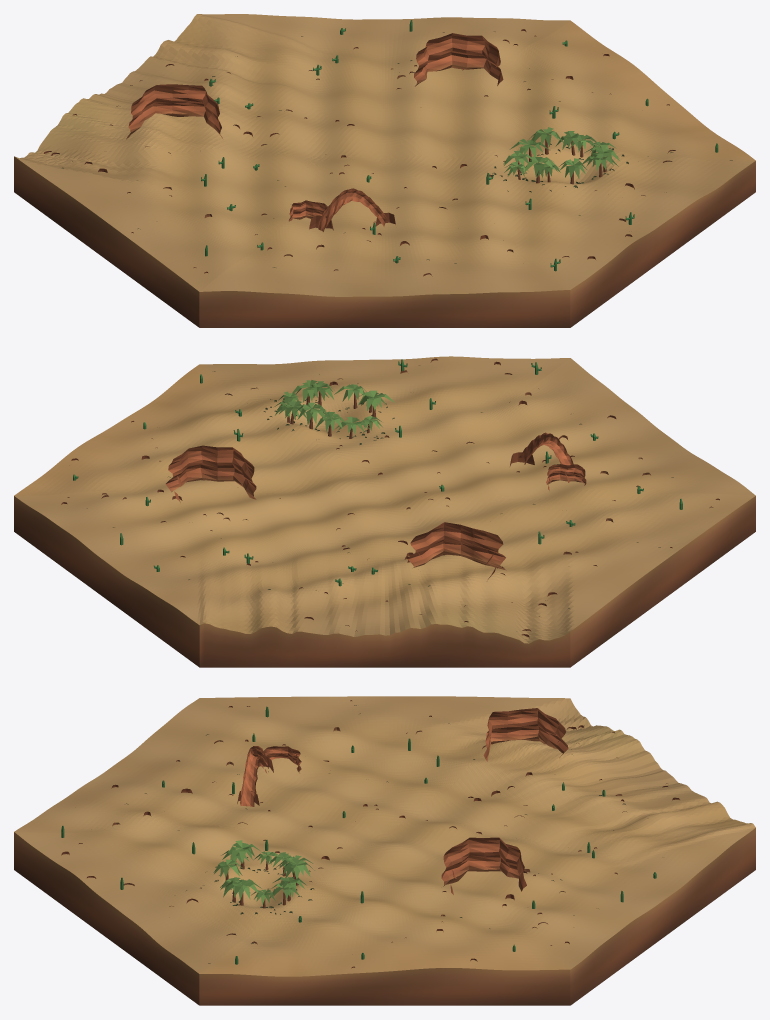
3 renders of one model, top to bottom at view 1: azimuth 30°, elevation 25°; view 2: azimuth 150°, elevation 25°; view 3: azimuth 270°, elevation 25°, orthographic.
Visible parts, largest first — view 1: terrain, hex_side_cut, sandstone_cliffs, palm_fronds, rock_arches, loose_rocks, cacti; view 2: terrain, hex_side_cut, sandstone_cliffs, palm_fronds, loose_rocks, cacti, rock_arches; view 3: terrain, hex_side_cut, sandstone_cliffs, palm_fronds, loose_rocks, rock_arches, cacti.
Part boxes in pixels (x1=…): terrain: x1=15, y1=14, x2=755, y2=296; hex_side_cut: x1=14, y1=156, x2=755, y2=327; sandstone_cliffs: x1=126, y1=33, x2=503, y2=227; palm_fronds: x1=503, y1=127, x2=620, y2=178; rock_arches: x1=309, y1=188, x2=395, y2=231; loose_rocks: x1=43, y1=29, x2=675, y2=276; cacti: x1=201, y1=20, x2=718, y2=271; terrain: x1=14, y1=356, x2=755, y2=643; hex_side_cut: x1=14, y1=496, x2=755, y2=667; sandstone_cliffs: x1=165, y1=445, x2=586, y2=579; palm_fronds: x1=274, y1=380, x2=394, y2=433; loose_rocks: x1=61, y1=358, x2=719, y2=637; cacti: x1=73, y1=359, x2=682, y2=586; rock_arches: x1=510, y1=432, x2=582, y2=482; terrain: x1=14, y1=696, x2=755, y2=976; hex_side_cut: x1=14, y1=828, x2=755, y2=1005; sandstone_cliffs: x1=260, y1=708, x2=568, y2=894; palm_fronds: x1=213, y1=840, x2=314, y2=904; loose_rocks: x1=61, y1=700, x2=679, y2=968; rock_arches: x1=237, y1=746, x2=273, y2=806; cacti: x1=61, y1=706, x2=656, y2=964.
Bounding box in the file's own units: 4330 × 575 × 5000.
